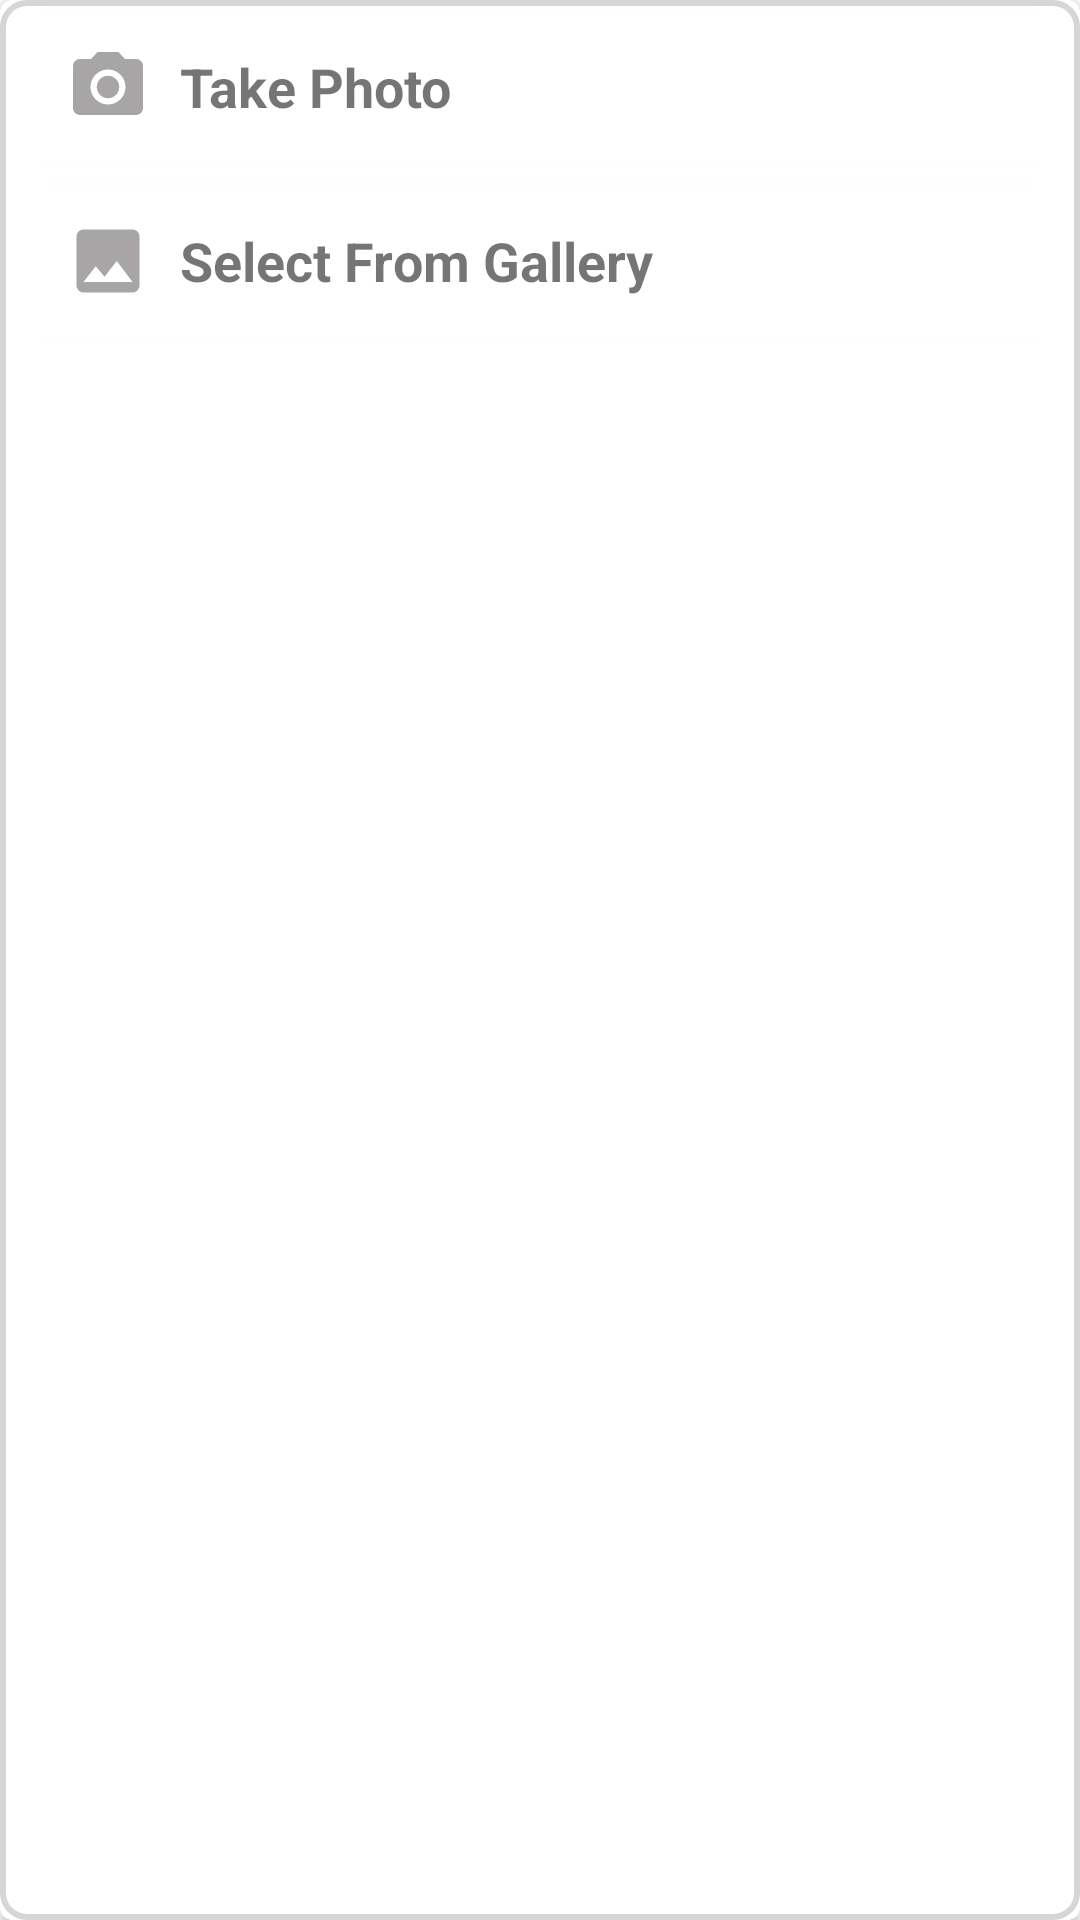

Named icons in this screenshot (1080x1920) and their centers, (x,y):
camera: (108,83)
